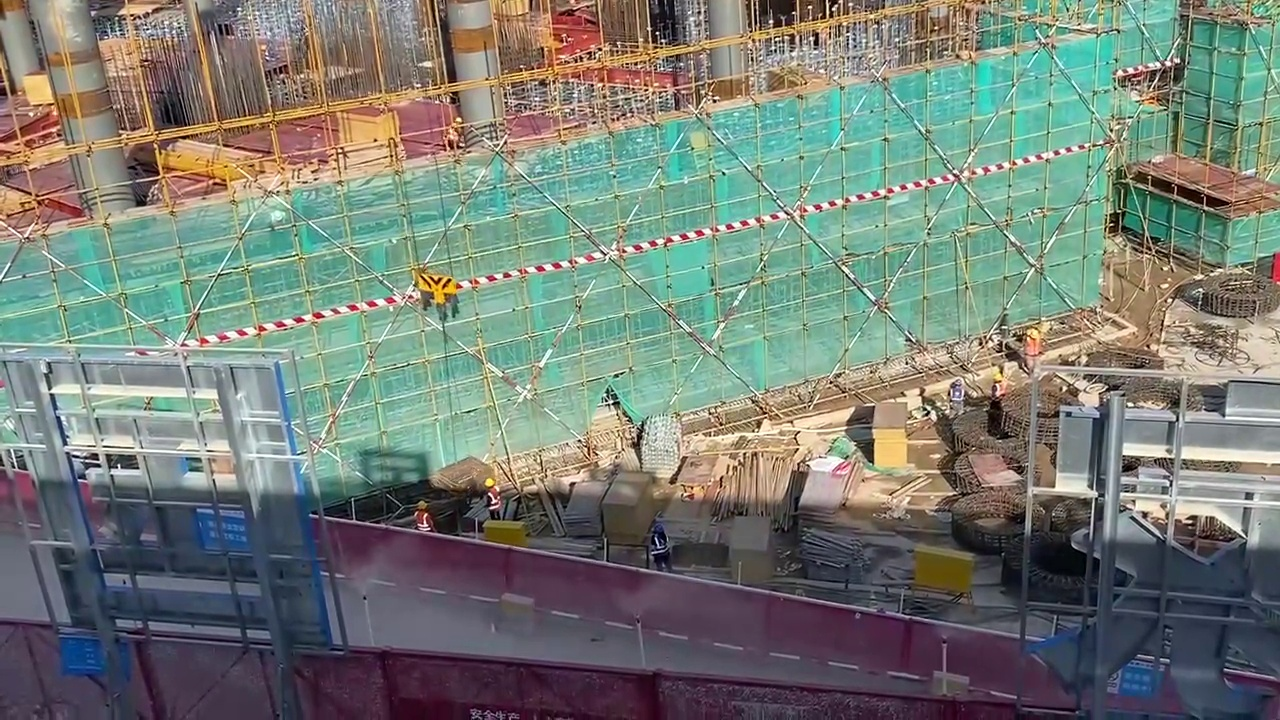board: (872, 396, 912, 470)
fence: (3, 617, 949, 720)
hook: (416, 274, 457, 308)
person: (648, 522, 679, 575), (478, 477, 506, 518), (412, 496, 437, 532)
wood: (722, 454, 799, 528)
